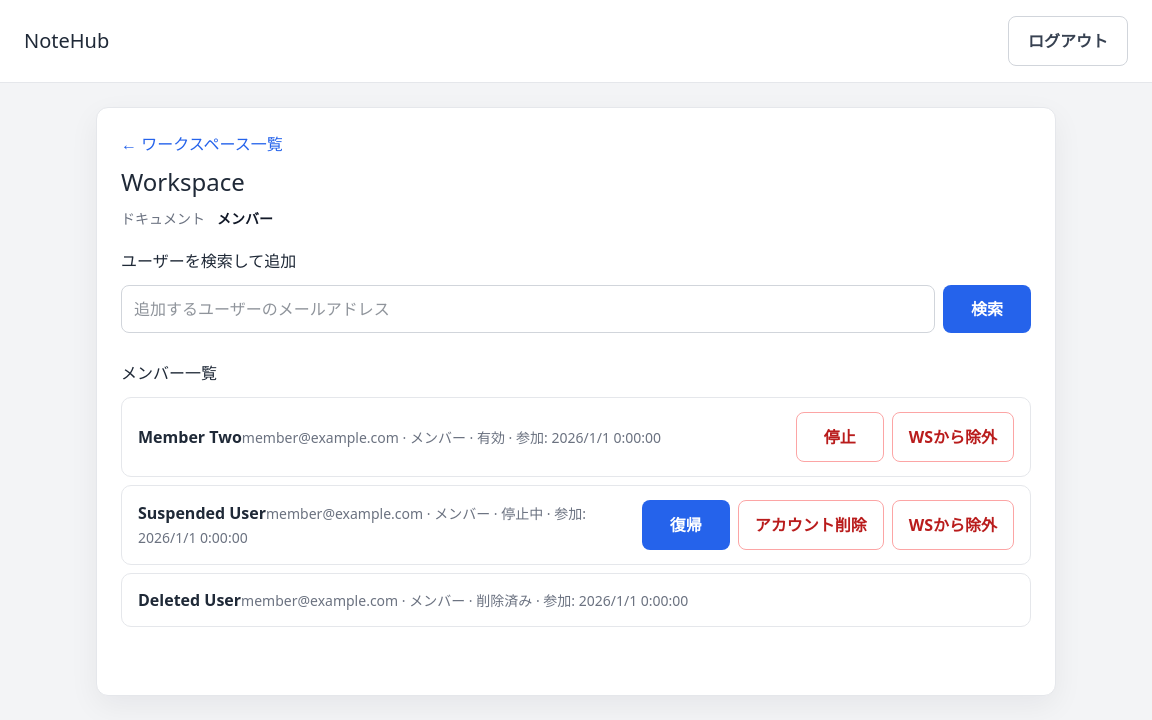
Test: MembersPage › loads members for host and supports search/add flow
Expected: the text "Member Two" is shown, [138, 426, 242, 448]
Type "found@example.com" into the field with placeholder "追加するユーザーのメールアドレス".
click(528, 309); type("found@example.com")  # box [121, 285, 935, 333]
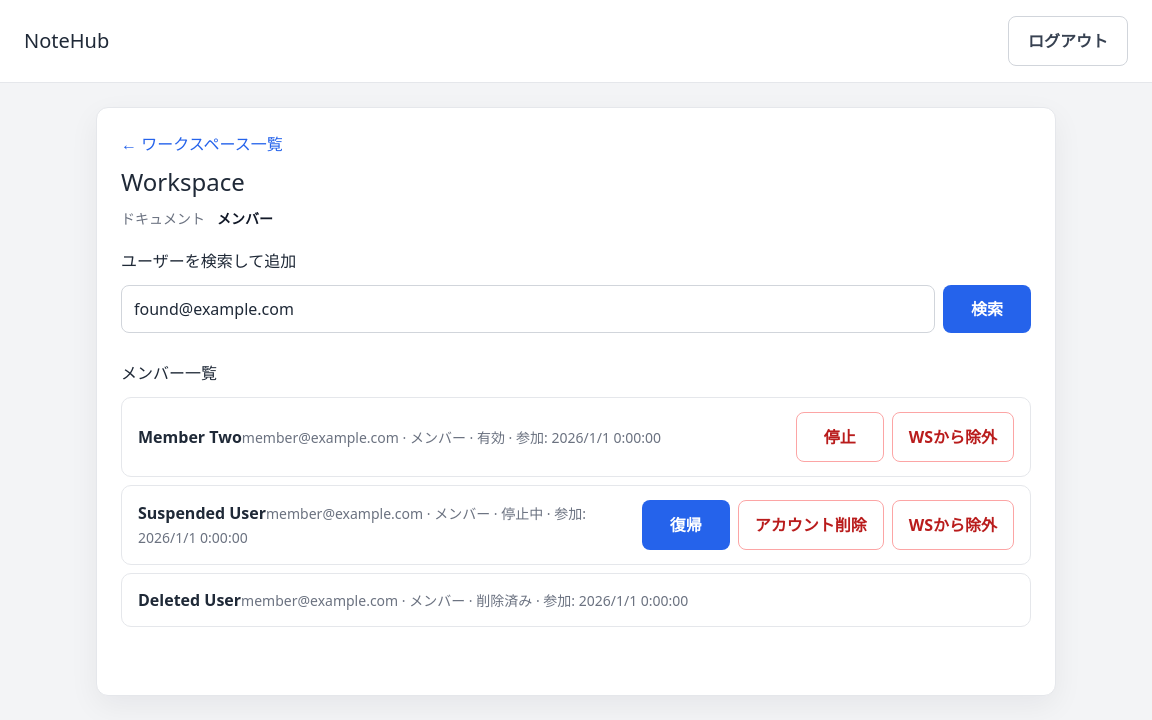
Submit the form with placeholder "追加するユーザーのメールアドレス", box [121, 285, 1031, 333]
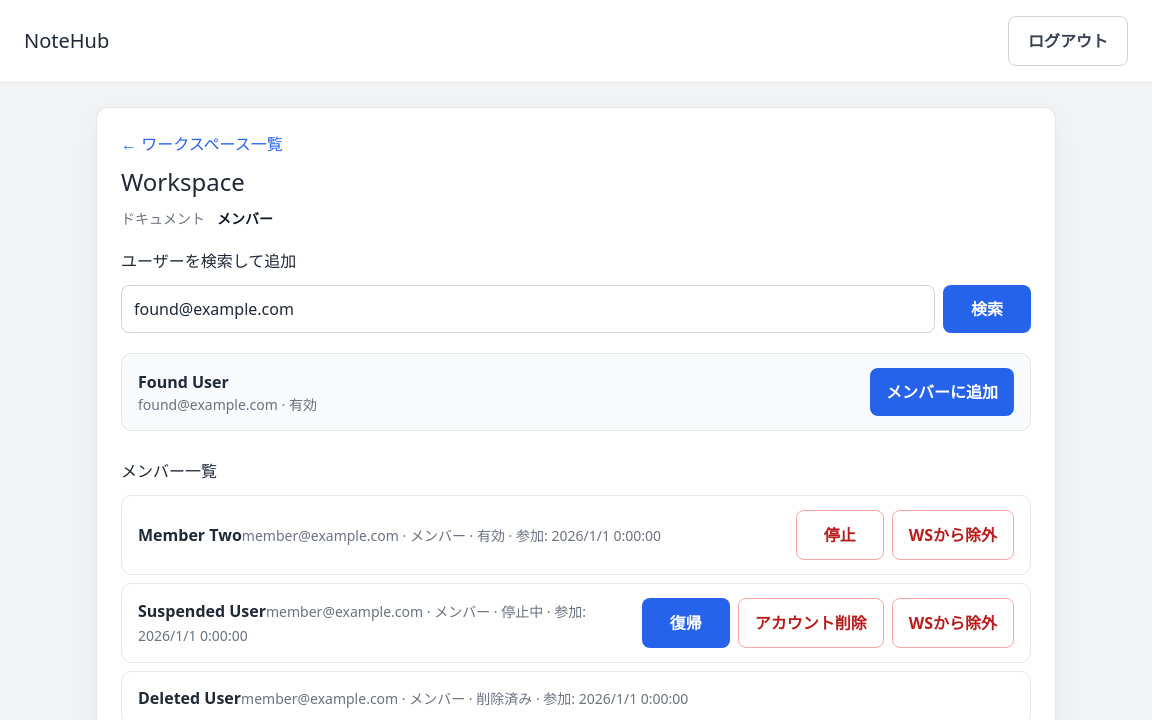
Now the text "Found User" is shown, box [138, 370, 229, 392]
Click the button "メンバーに追加".
click(942, 392)  # box [870, 368, 1014, 416]
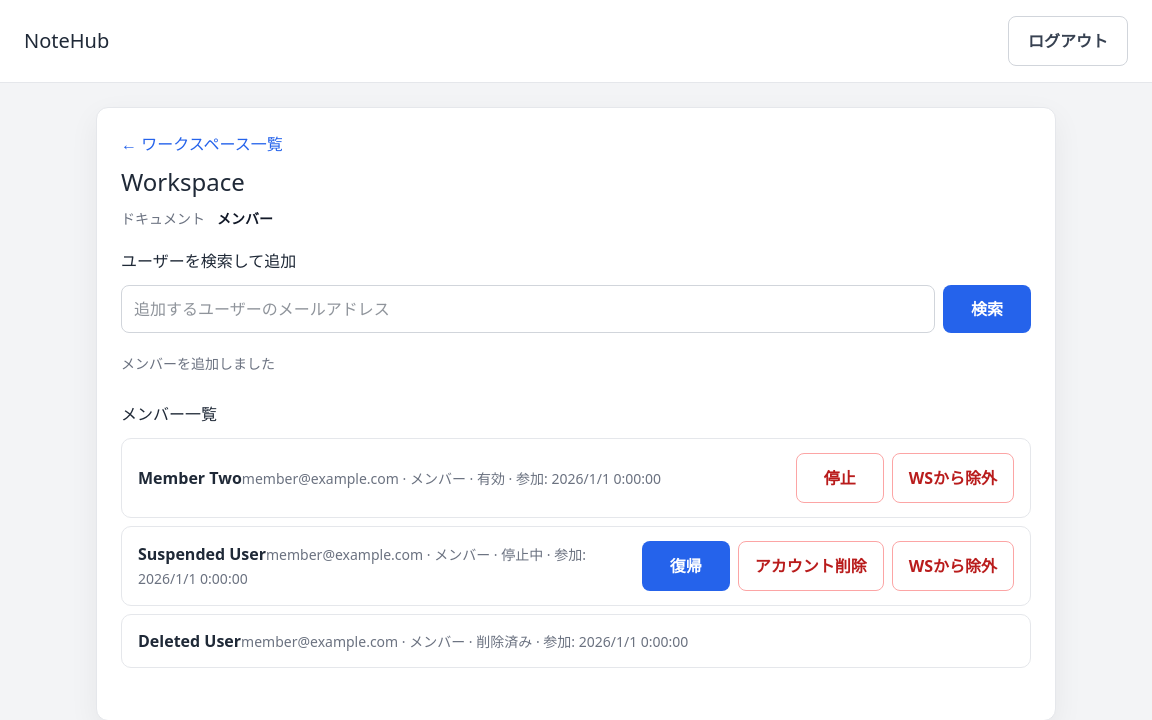
Now the text "メンバーを追加しました" is shown, box [121, 354, 275, 373]
